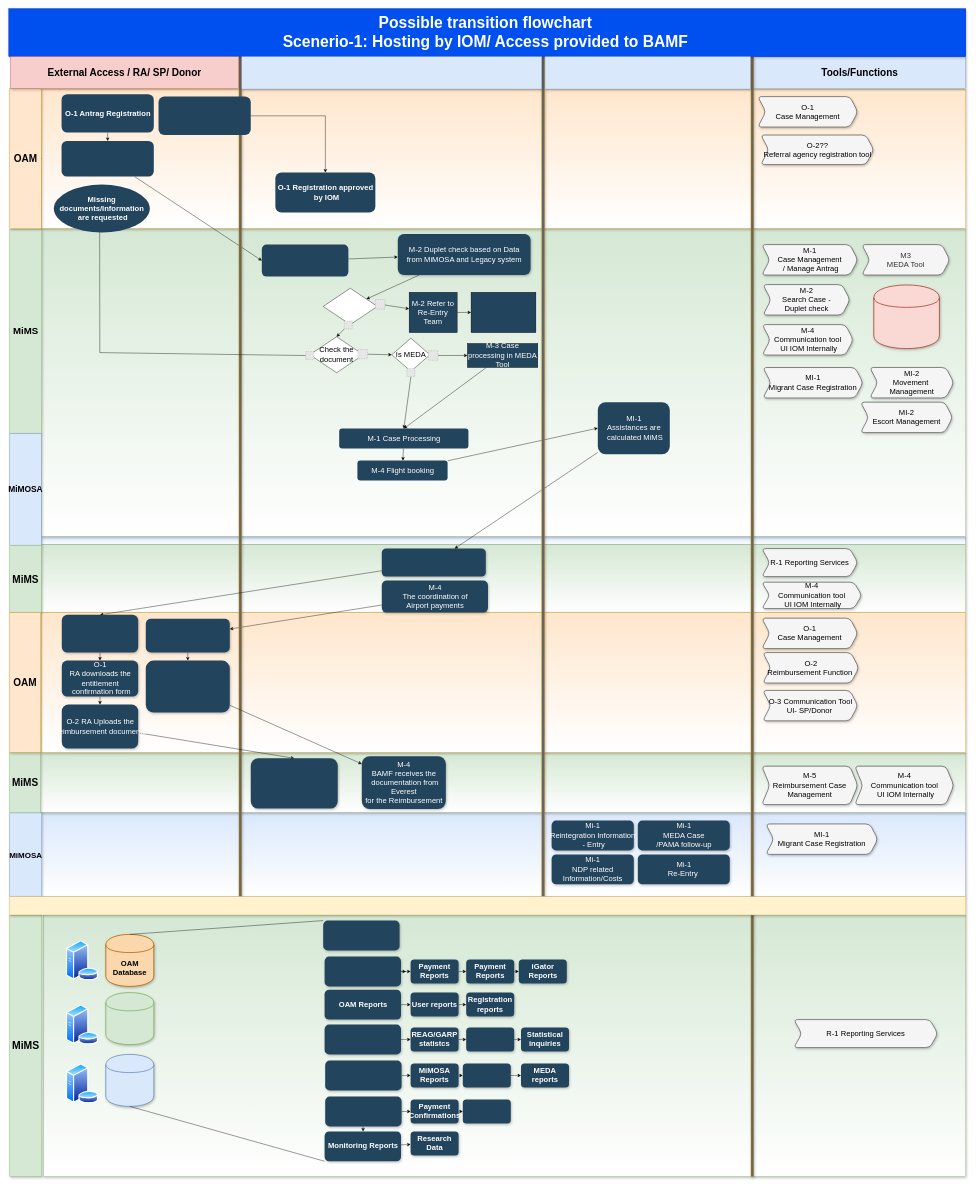
Some shapes in this 976 by 1186 pixel diagram are drawn without their labels. Grey dashed boxes stand in for pictures. Each missing label, with the centre of its shape:
"0-1 Antrag submitted to IOM by RA" goes at [107,158].
"0-3 Service Provider submits the payments documents" goes at [188,687].
"Data Quality check" goes at [361,936].
"ECF Reports" goes at [363,1112].
"Escort Reports" goes at [487,1112].
"Financial Reports" goes at [363,972].
"I-1 IRES Application" goes at [907,317].
"I-1 Re-Entry Case processing in IRES" goes at [503,312].
"IOM Internal Access / BAMF has access" goes at [392,73].
"IOM Internal Access / Sharing NOT Possible" goes at [648,73].
"Is Case Re-Entry" goes at [350,306].
"M-1 Antrag is received" goes at [305,260].
"M-5 Receive the document and proceed with the payment" goes at [294,783].
"MiMOSA Database" goes at [130,1080].
"MiMS Database" goes at [130,1019].
"O-1 Automatic notification sent to RA" goes at [100,634].
"O-1 RA registration request" goes at [204,115].
"O-3 External Service Provider" goes at [188,636].
"Ops Reports" goes at [363,1076].
"R-1 ECF reports is generated and uploaded" goes at [434,563].
"Reintegration Reports" goes at [487,1076].
"Reports generated using OAM / MiMS / MiMOSA" goes at [488,906].
"SHP Statistics" goes at [490,1040].
"Statistical Reports" goes at [363,1040].
